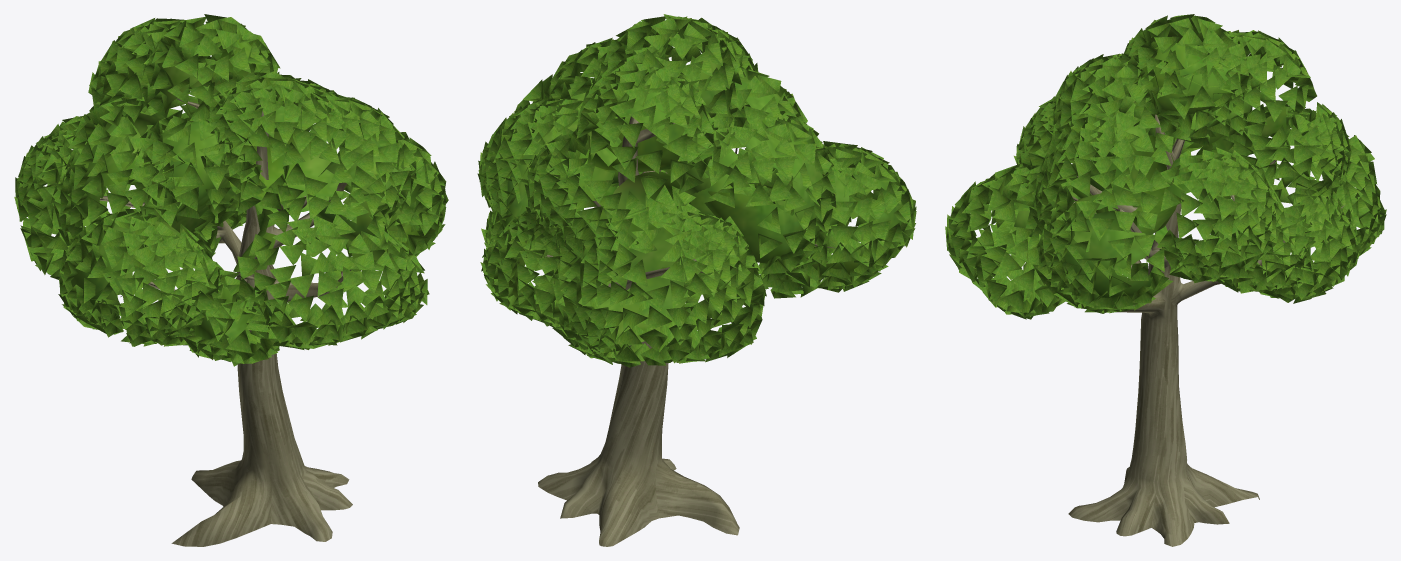
Rendered from SM_ENV_LKNVLD_Tree_B.FBX.
3 renders of one model, left to right at view 1: azimuth 30°, elevation 25°; view 2: azimuth 150°, elevation 25°; view 3: azimuth 270°, elevation 25°, orthographic. The views are drawn at different scales.
Parts seen in each view (by area): view 1: SM_ENV_LKNVLD_Tree_B; view 2: SM_ENV_LKNVLD_Tree_B; view 3: SM_ENV_LKNVLD_Tree_B.
Part boxes in pixels (x1,y1,x2,y2): SM_ENV_LKNVLD_Tree_B: [14, 14, 448, 546]; SM_ENV_LKNVLD_Tree_B: [477, 14, 916, 546]; SM_ENV_LKNVLD_Tree_B: [945, 14, 1386, 546].
Bounding box in the file's own units: 726 × 926 × 780.
